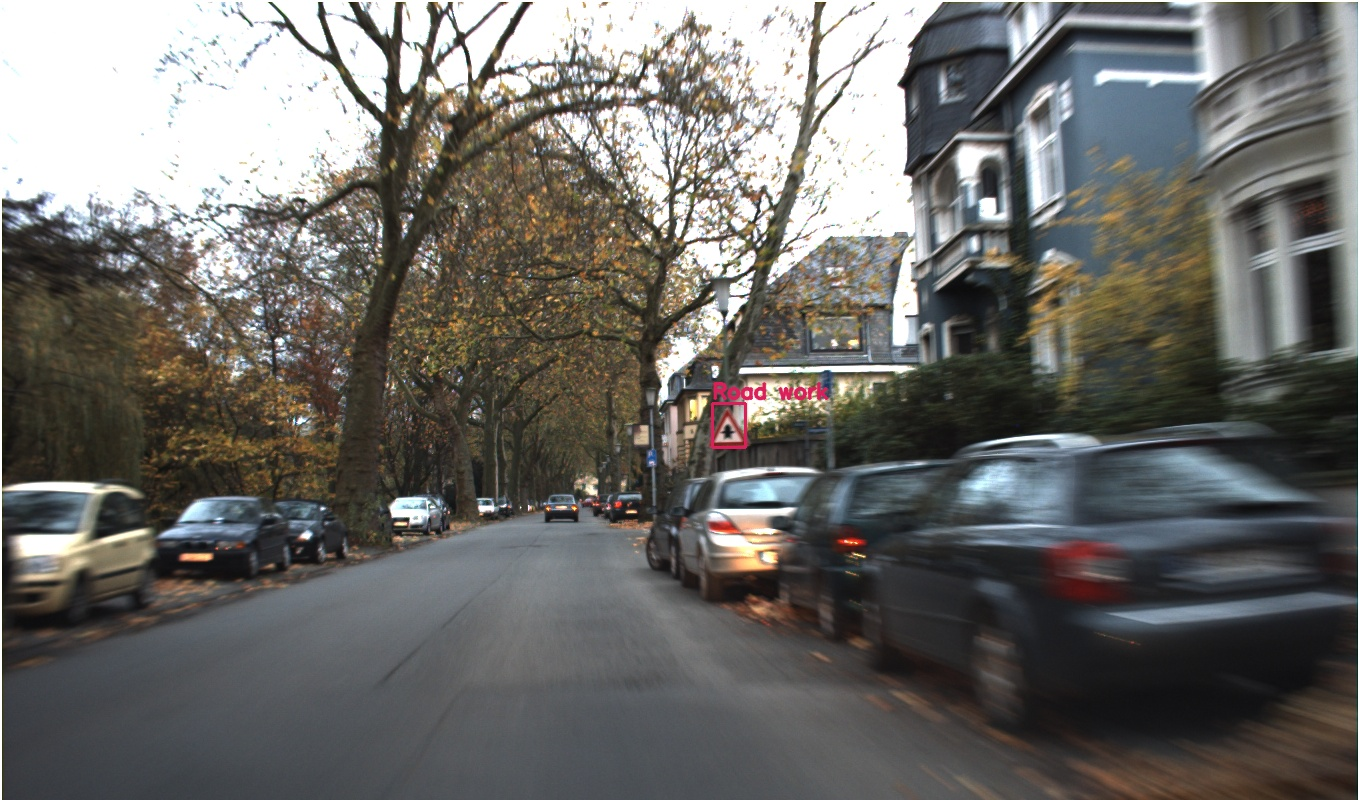Speed limit (30km/h): (971, 267, 1031, 328)
